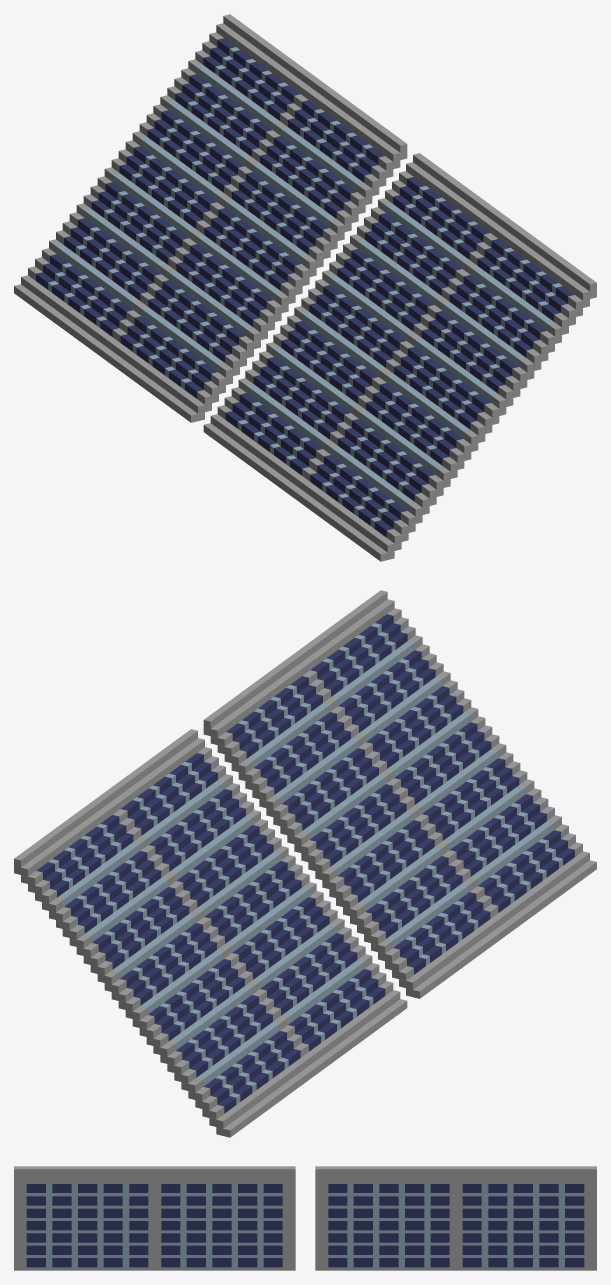
File: energetic-dao-dual-left-panel.glb
The picture shows the model from 3 angles, top to bottom: view 1: azimuth 30°, elevation 25°; view 2: azimuth 150°, elevation 25°; view 3: azimuth 270°, elevation 25°; orthographic projection. The views are drawn at different scales.
Parts seen in each view (by area): view 1: roof-panel-left.001, roof-panel-left.002; view 2: roof-panel-left.001, roof-panel-left.002; view 3: roof-panel-left.001, roof-panel-left.002.
Part boxes in pixels (left/top/right/bottom): roof-panel-left.001: left=14, top=14, right=407, bottom=422; roof-panel-left.002: left=203, top=153, right=596, bottom=561; roof-panel-left.001: left=14, top=729, right=407, bottom=1137; roof-panel-left.002: left=203, top=590, right=596, bottom=998; roof-panel-left.001: left=315, top=1166, right=596, bottom=1270; roof-panel-left.002: left=14, top=1166, right=295, bottom=1270.
Size of the model in its own units: 3.1 by 3.1 by 9.11.
Materials: 2 (2 with a texture image).
